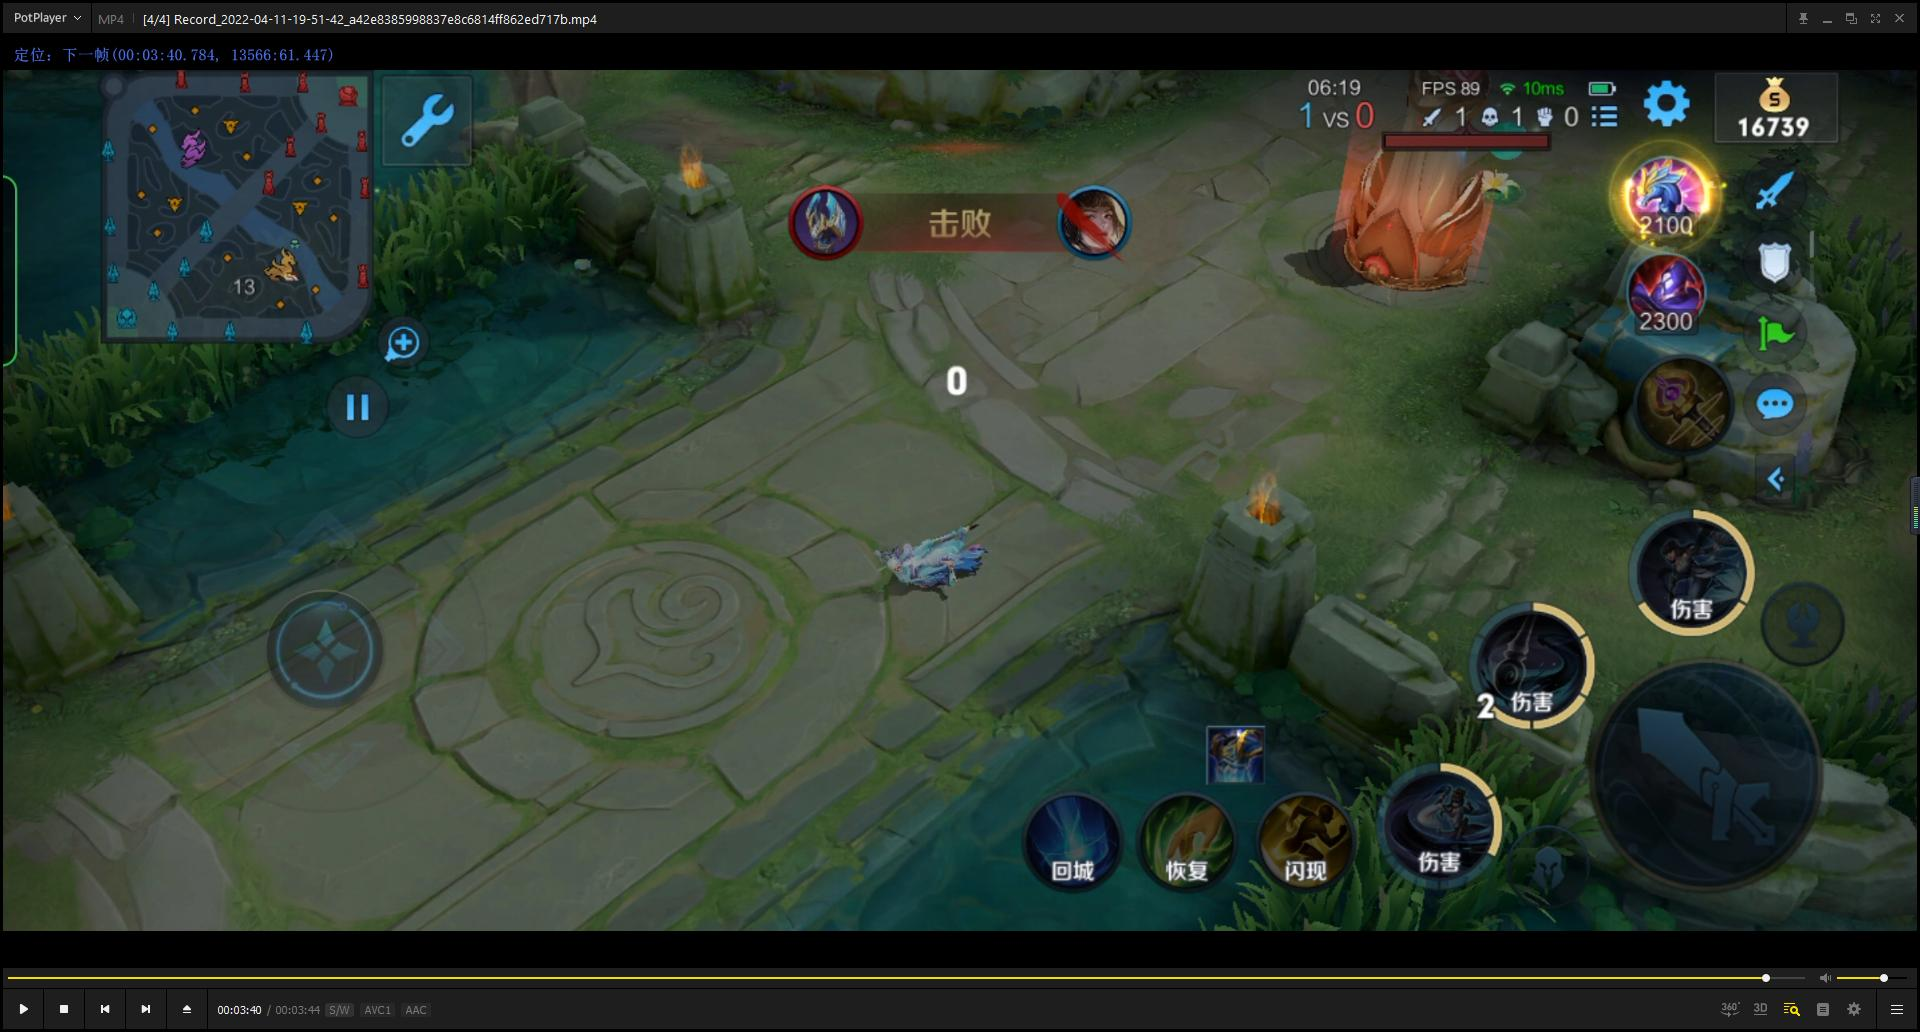Hero: (856, 484, 999, 621)
Tower: (1278, 72, 1557, 337)
